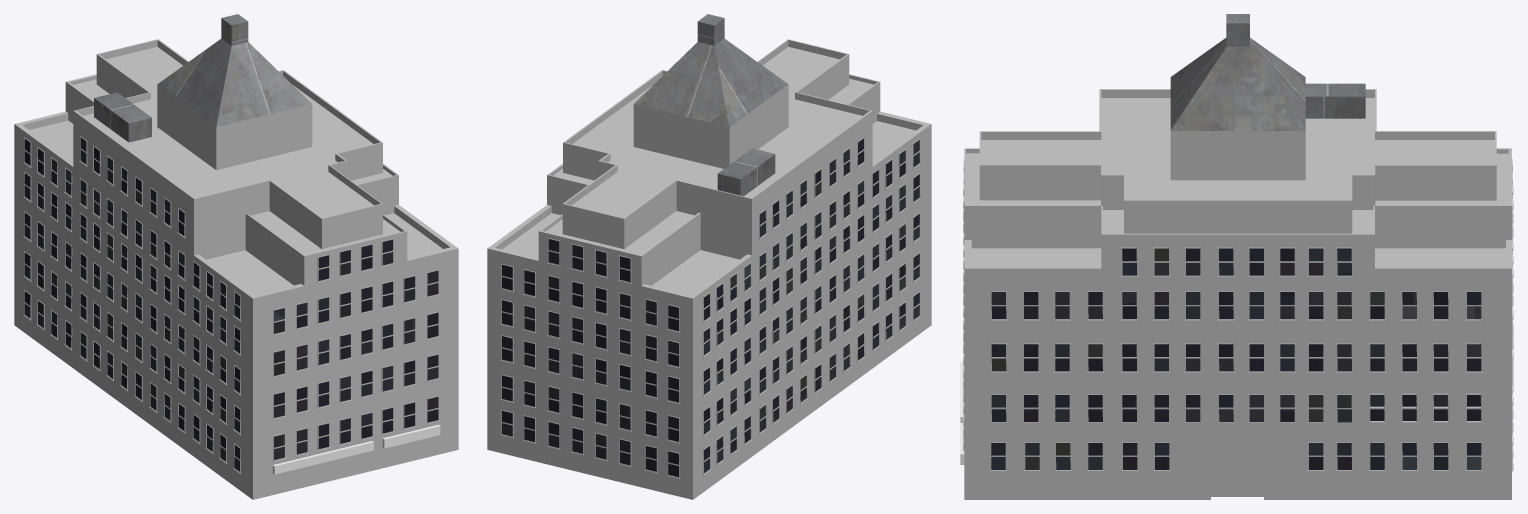
File: 1 Young St, Hamilton, ON L8N 1T8.fbx
3 views of the same model, side by side, from view 1: azimuth 30°, elevation 25°; view 2: azimuth 150°, elevation 25°; view 3: azimuth 270°, elevation 25° (orthographic). The views are drawn at different scales.
Visible parts, largest first — view 1: SketchUp; view 2: SketchUp; view 3: SketchUp.
Part boxes in pixels (x1=…): SketchUp: x1=14, y1=14, x2=458, y2=499; SketchUp: x1=487, y1=14, x2=931, y2=499; SketchUp: x1=960, y1=14, x2=1513, y2=499.
Bounding box in the file's own units: 1558 × 2627 × 3116.
